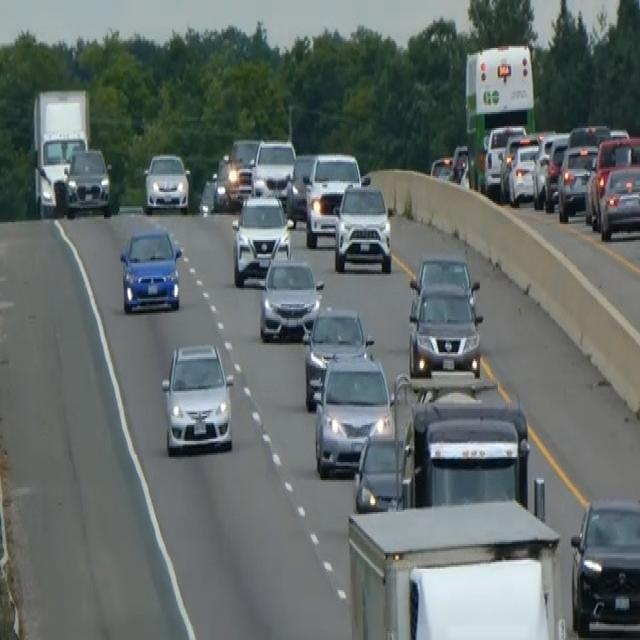bus: (462, 41, 536, 190)
car: (313, 348, 394, 478), (569, 494, 639, 638), (302, 304, 373, 411), (230, 190, 291, 286), (304, 151, 364, 247), (258, 255, 324, 342), (119, 224, 183, 313), (585, 135, 639, 228), (353, 428, 411, 512), (64, 146, 112, 217), (598, 162, 639, 242), (557, 140, 598, 220), (482, 122, 525, 194), (142, 150, 190, 213), (250, 137, 296, 199), (507, 135, 540, 206), (212, 153, 252, 210), (285, 151, 315, 226), (227, 135, 259, 201), (532, 132, 558, 208), (543, 135, 569, 210), (212, 153, 231, 208), (449, 142, 469, 183), (198, 176, 217, 215), (429, 153, 453, 179)
jeep: (406, 254, 484, 380), (332, 178, 393, 274)
lorry: (407, 398, 530, 507), (31, 85, 91, 217)
minivan: (159, 336, 235, 457)
